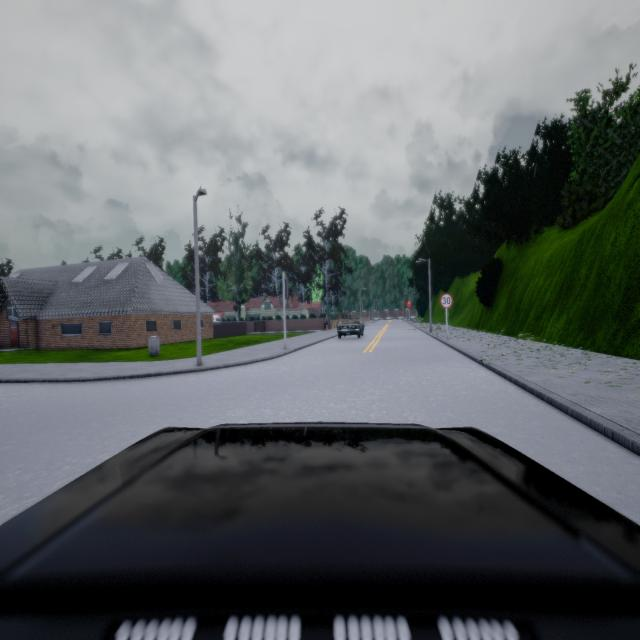Speed Limit -30-: (440, 293, 453, 309)
